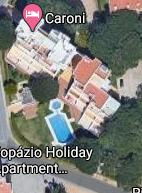pool: (44, 112, 76, 145), (50, 100, 63, 111)
